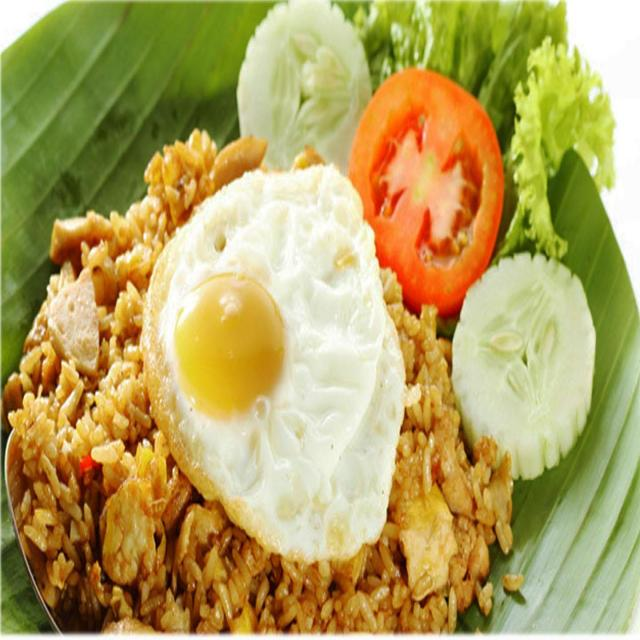Nasi Goreng: (29, 157, 477, 630)
